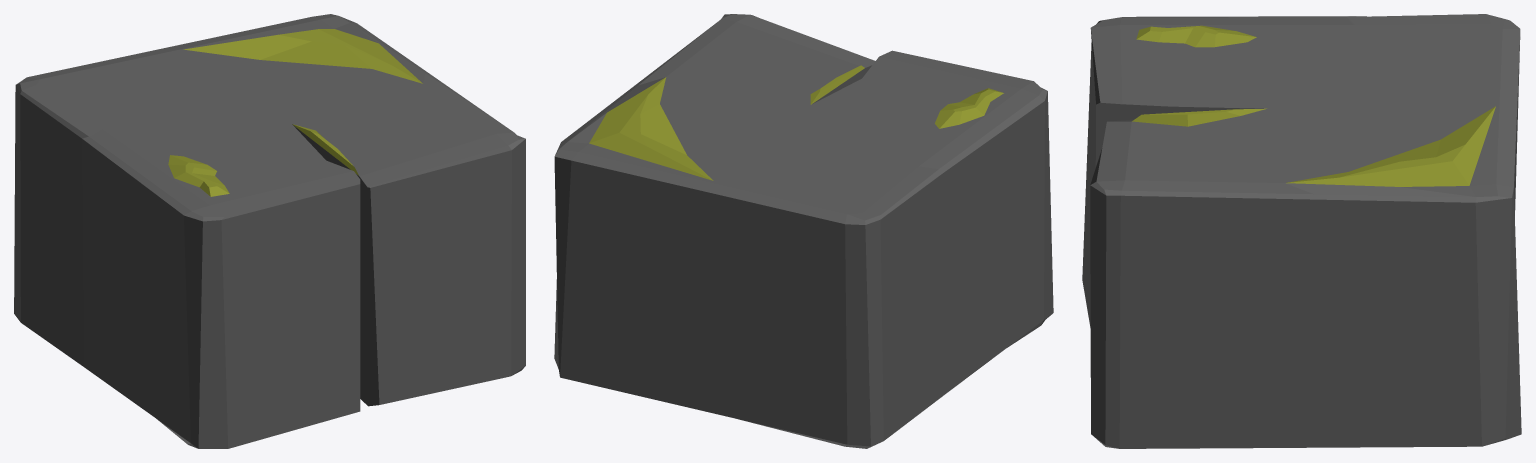
Rendered from tile_squared_moss_type_2_LOD0.fbx.
3 views of the same model, side by side, from view 1: azimuth 30°, elevation 25°; view 2: azimuth 150°, elevation 25°; view 3: azimuth 270°, elevation 25° (orthographic). The views are drawn at different scales.
Visible parts, largest first — view 1: tile_squared_moss_type_2; view 2: tile_squared_moss_type_2; view 3: tile_squared_moss_type_2.
Boxes of the visible parts, left/top/right/bottom form: tile_squared_moss_type_2: left=14, top=14, right=525, bottom=448; tile_squared_moss_type_2: left=554, top=14, right=1053, bottom=448; tile_squared_moss_type_2: left=1082, top=14, right=1521, bottom=448.
Size of the model in its own units: 121 by 82.15 by 123.
